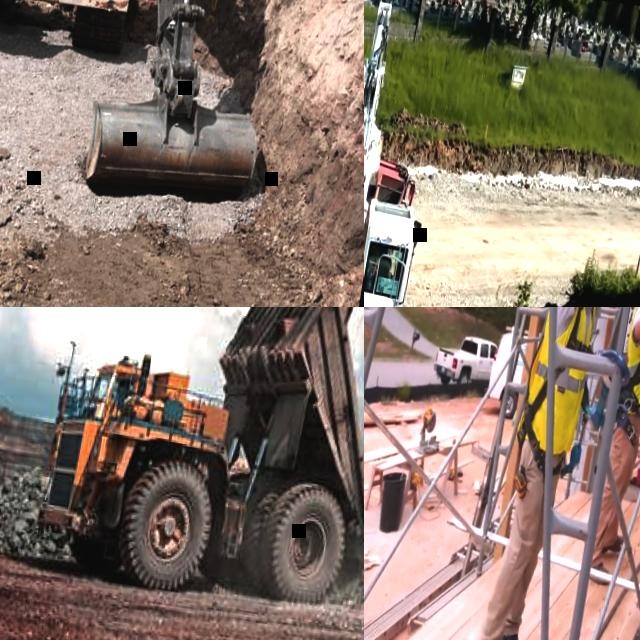Person: (469, 307, 640, 640), (588, 307, 640, 588)
Safety Vest: (515, 307, 601, 457), (617, 307, 640, 415)
machinery: (26, 307, 364, 633), (0, 0, 317, 217), (364, 0, 465, 307)
vehicle: (484, 325, 547, 424), (431, 332, 498, 392)
